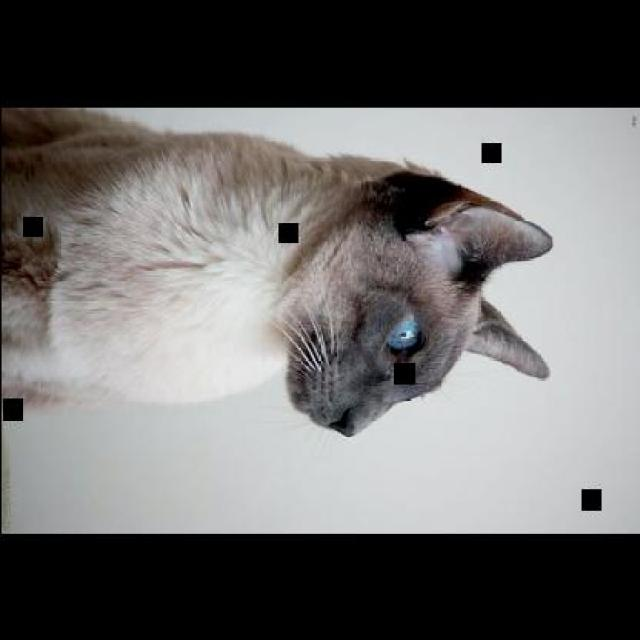unauthorized: (0, 106, 552, 438)
